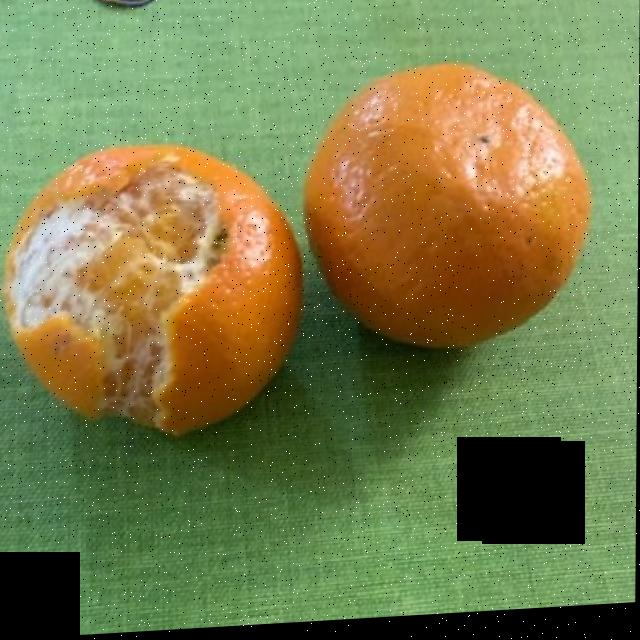mandarine: (5, 57, 574, 423)
